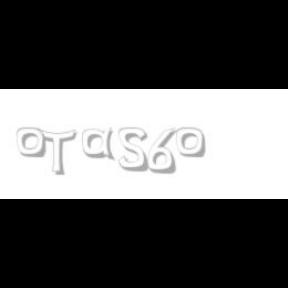6: (148, 128, 176, 176)
S: (119, 128, 150, 172)
T: (36, 128, 76, 176)
a: (82, 128, 119, 160)
o: (16, 128, 46, 158), (176, 128, 206, 158)
